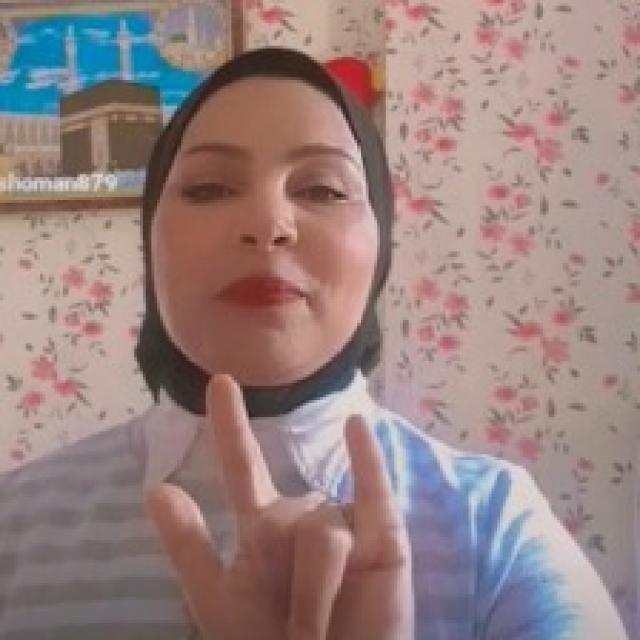love: (141, 367, 421, 640)
